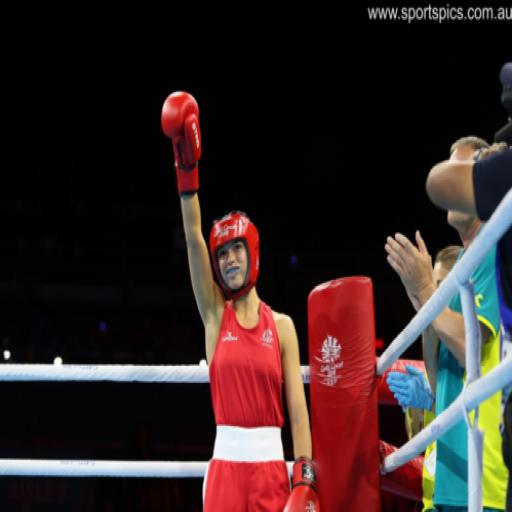boxing: (160, 89, 321, 511)
